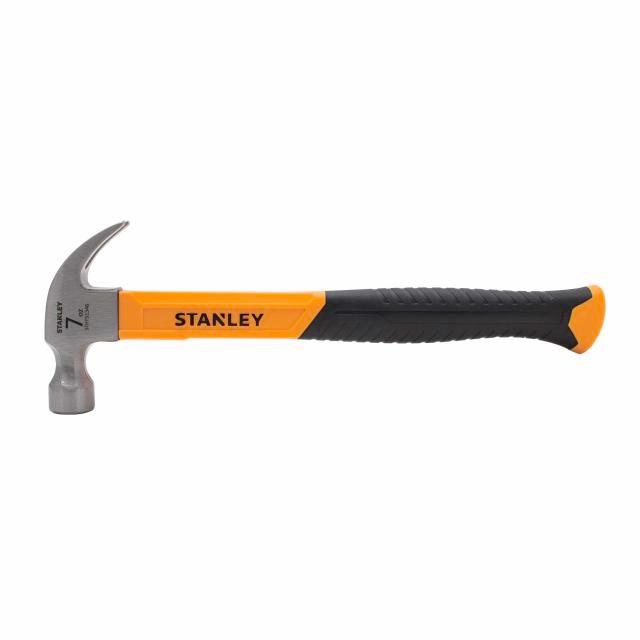hammer: (37, 212, 607, 424)
